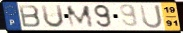9: (120, 3, 140, 30), (93, 4, 113, 29)
B: (17, 4, 42, 28)
M: (65, 4, 96, 29)
U: (39, 4, 65, 29), (139, 4, 164, 30)
